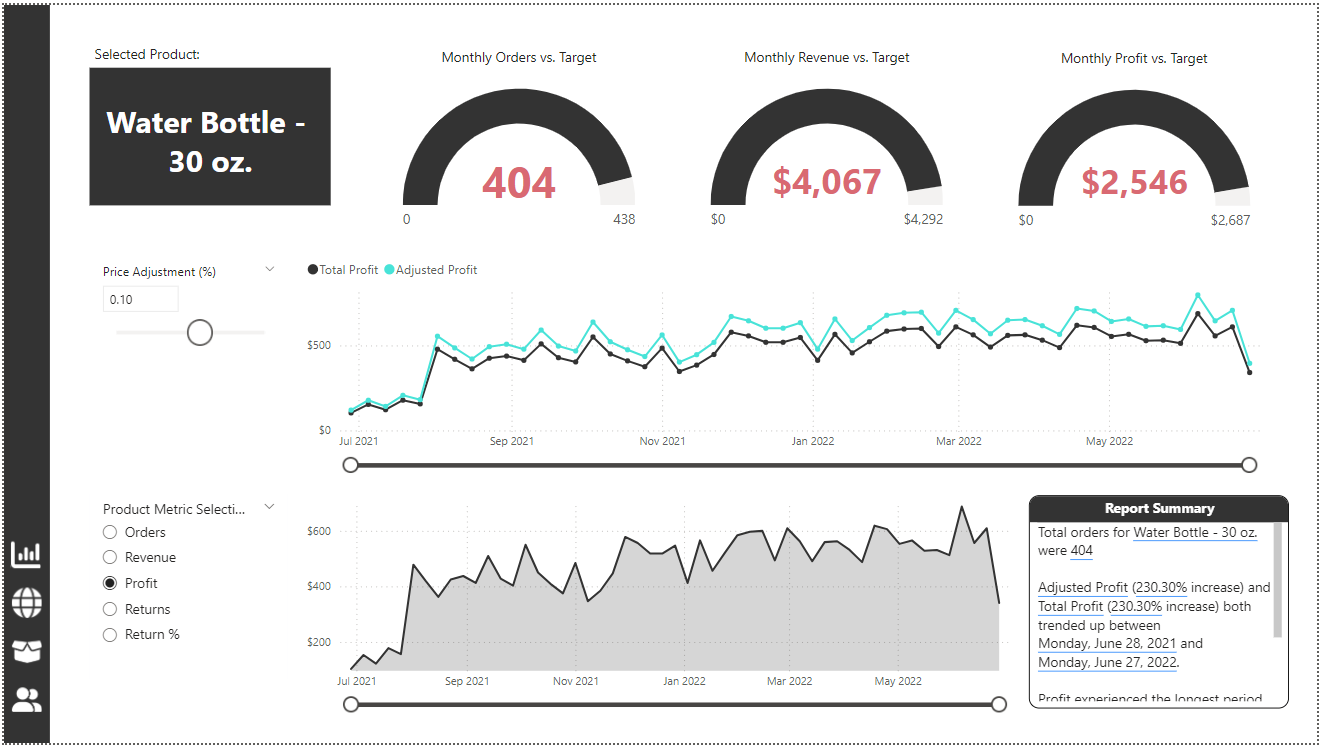

Layout of this report page (visuals, bound fields, positions):
{"tool":"powerbi","page":{"name":"Product Detail","canvas":[1280,720],"ordinal":2},"visuals":[{"type":"shape","box":[0,0,45,720],"z":0},{"type":"actionButton","box":[2.5,516.7,45.6,37.8],"z":0,"group":"g1"},{"type":"gauge","title":"Monthly Orders vs. Target","fields":{"Y":["Measure Table.Total Orders"],"MaxValue":["Measure Table.Order Target"]},"box":[383.7,41.5,236.9,203.7],"z":1000},{"type":"actionButton","box":[3.3,563.4,45.6,37.8],"z":1000,"group":"g1"},{"type":"gauge","title":"Monthly Revenue vs. Target","fields":{"Y":["Measure Table.Total Revenue"],"MaxValue":["Measure Table.Revenue Target"]},"box":[683.5,41.5,236.9,203.7],"z":2000},{"type":"actionButton","box":[3.3,611.1,45.6,37.8],"z":2000,"group":"g1"},{"type":"gauge","title":"Monthly Profit vs. Target","fields":{"Y":["Measure Table.Total Profit"],"MaxValue":["Measure Table.Profit Target"]},"box":[983.4,41.8,236.2,203.5],"z":3000},{"type":"actionButton","box":[3.3,657.8,45.6,37.8],"z":3000,"group":"g1"},{"type":"lineChart","title":"Profit Trending","fields":{"Category":["Calendar Lookup.Date Hierarchy.Year","Calendar Lookup.Date Hierarchy.Start of Month","Calendar Lookup.Date Hierarchy.Start of Week","Calendar Lookup.Date Hierarchy.Date"],"Y":["Measure Table.Total Profit","Measure Table.Adjusted Profit"]},"box":[290.5,237.4,952.8,221.5],"z":4000},{"type":"areaChart","title":"Return Trending","fields":{"Y":["Measure Table.Total Profit"],"Category":["Calendar Lookup.Date Hierarchy.Year","Calendar Lookup.Date Hierarchy.Start of Month","Calendar Lookup.Date Hierarchy.Start of Week","Calendar Lookup.Date Hierarchy.Date"]},"box":[290.5,471.3,708.7,221.5],"z":5000},{"type":"card","fields":{"Values":["Min(Product Lookup.ProductName)"]},"box":[83.6,61,235.1,134.5],"z":6000},{"type":"textbox","box":[83.6,32.8,136.8,36.2],"z":7000},{"type":"group","id":"g1","title":"Navigation Buttons","box":[2.5,516.7,46.4,178.9],"z":8000},{"type":"slicer","fields":{"Values":["Price Adjustment (%).Price Adjustment (%)"]},"box":[83.6,245.3,193.3,123.2],"z":9000},{"type":"slicer","fields":{"Values":["Product Metric Selection.Product Metric Selection"]},"box":[83.6,477,193.3,180.8],"z":10000},{"type":"textbox","title":"Report Summary","box":[999.2,478.1,253.2,208],"z":11000}]}

Visuals, with their boxes on the page's 1280x720 design canvas (x1, y1, x2, y2). These are canvas units, not pixel positions in the 1323x748 screenshot, which may show the page scaled, cropped or inside an application window:
shape: region(0, 0, 45, 720)
actionButton: region(2, 517, 48, 554)
"Monthly Orders vs. Target" gauge: region(384, 42, 621, 245)
actionButton: region(3, 563, 49, 601)
"Monthly Revenue vs. Target" gauge: region(684, 42, 920, 245)
actionButton: region(3, 611, 49, 649)
"Monthly Profit vs. Target" gauge: region(983, 42, 1220, 245)
actionButton: region(3, 658, 49, 696)
"Profit Trending" lineChart: region(290, 237, 1243, 459)
"Return Trending" areaChart: region(290, 471, 999, 693)
card - Min(Product Lookup.ProductName): region(84, 61, 319, 196)
textbox: region(84, 33, 220, 69)
"Navigation Buttons" group: region(2, 517, 49, 696)
slicer - Price Adjustment (%).Price Adjustment (%): region(84, 245, 277, 368)
slicer - Product Metric Selection.Product Metric Selection: region(84, 477, 277, 658)
"Report Summary" textbox: region(999, 478, 1252, 686)
